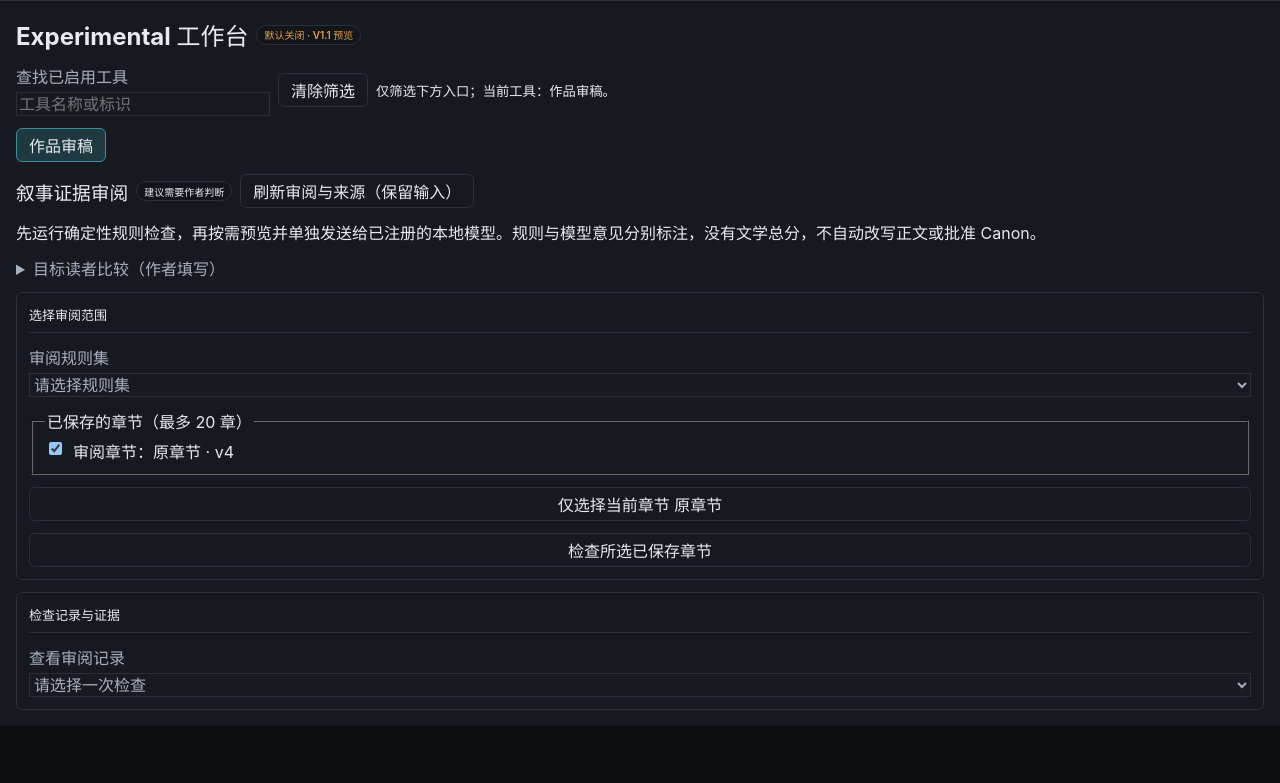
Test case: does not offer handoff when false means revision disabled or chapter dirty
Select "检查 1 · r" in the dropdown labelled "查看审阅记录" at (640, 685), box x1=29 y1=673 x2=1251 y2=697
(page scrolled)
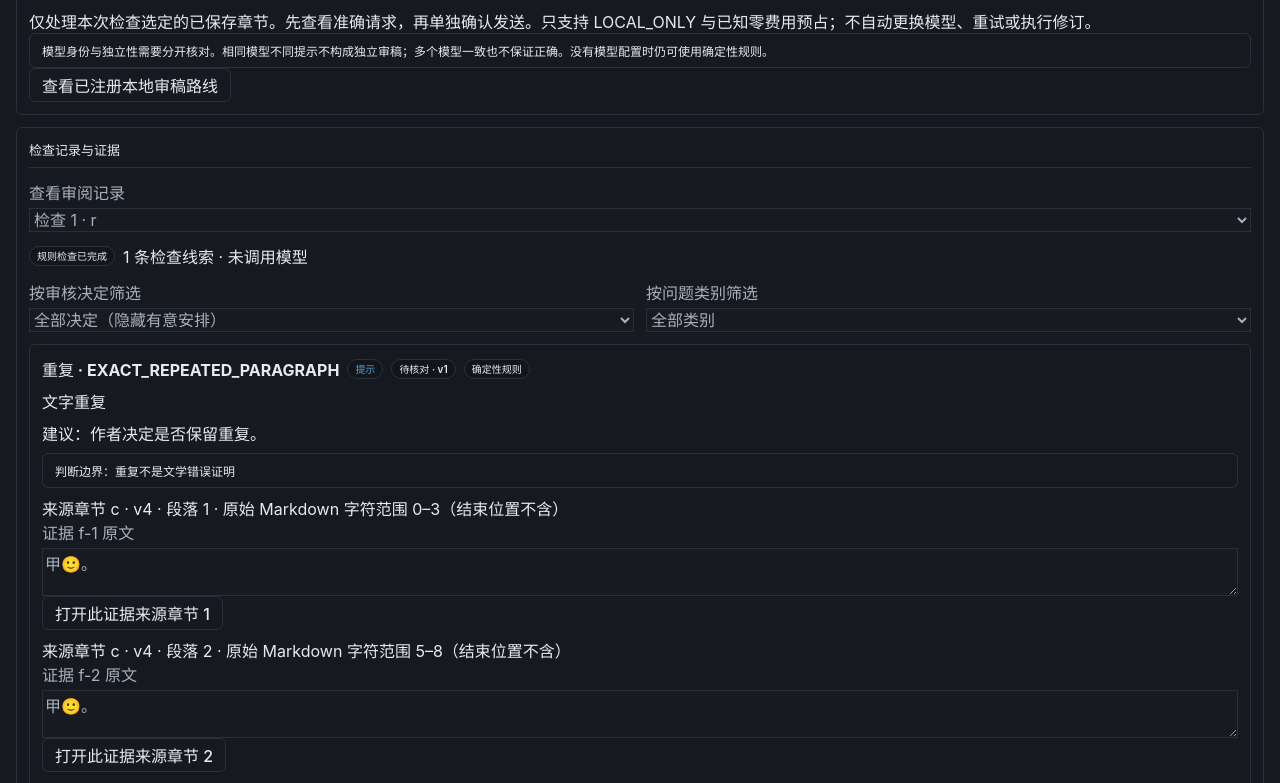
Check: the text "文字重复" is shown, box x1=42 y1=392 x2=106 y2=412
